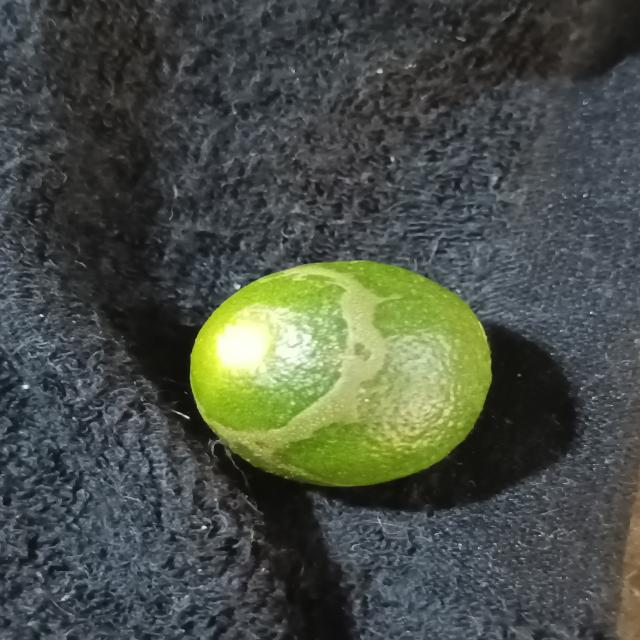thrips: (179, 257, 497, 498)
